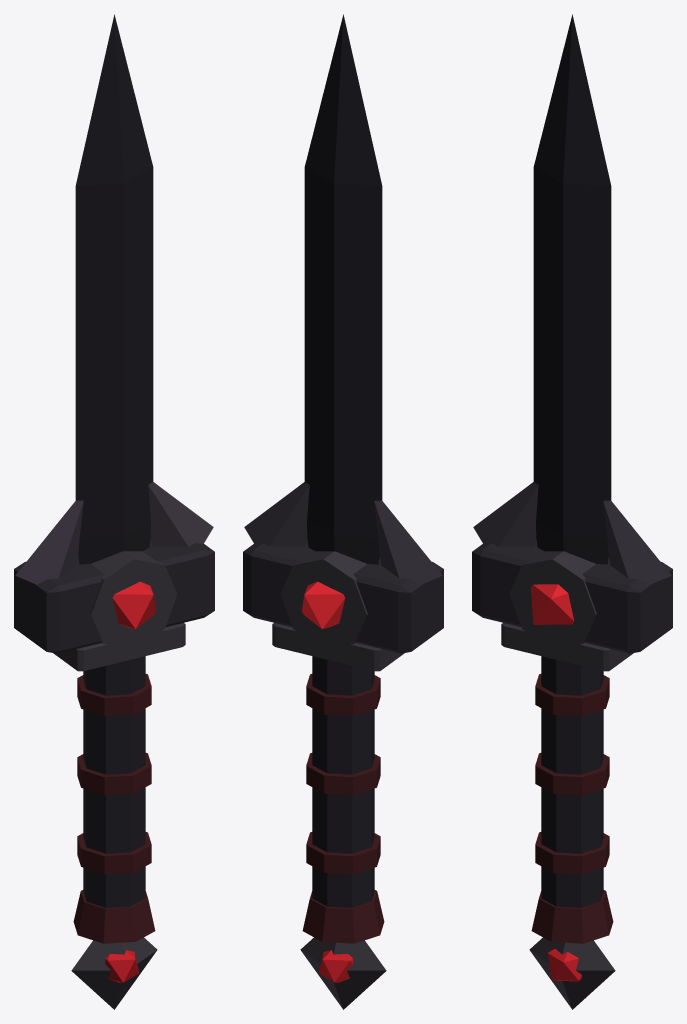
File: Sword_Phase1.fbx
3 renders of one model, left to right at view 1: azimuth 30°, elevation 25°; view 2: azimuth 150°, elevation 25°; view 3: azimuth 330°, elevation 25°, orthographic.
Visible parts, largest first — view 1: Sword_Phase1_Blade, Sword_Phase1_Grip, Sword_Phase1_Trim, Sword_Phase1_Guard, Sword_Phase1_Band, Sword_Phase1_Horn, Sword_Phase1_Eye, Sword_Phase1_Glow; view 2: Sword_Phase1_Blade, Sword_Phase1_Grip, Sword_Phase1_Trim, Sword_Phase1_Guard, Sword_Phase1_Band, Sword_Phase1_Horn, Sword_Phase1_Eye, Sword_Phase1_Glow; view 3: Sword_Phase1_Blade, Sword_Phase1_Grip, Sword_Phase1_Trim, Sword_Phase1_Guard, Sword_Phase1_Band, Sword_Phase1_Horn, Sword_Phase1_Eye, Sword_Phase1_Glow.
Boxes of the visible parts, x1=… form: Sword_Phase1_Blade: x1=75, y1=14, x2=153, y2=564; Sword_Phase1_Grip: x1=83, y1=656, x2=145, y2=907; Sword_Phase1_Trim: x1=53, y1=551, x2=185, y2=1009; Sword_Phase1_Guard: x1=14, y1=538, x2=214, y2=653; Sword_Phase1_Band: x1=73, y1=674, x2=155, y2=943; Sword_Phase1_Horn: x1=15, y1=482, x2=213, y2=584; Sword_Phase1_Eye: x1=112, y1=581, x2=156, y2=629; Sword_Phase1_Glow: x1=105, y1=950, x2=138, y2=982; Sword_Phase1_Blade: x1=304, y1=14, x2=382, y2=564; Sword_Phase1_Grip: x1=312, y1=656, x2=374, y2=907; Sword_Phase1_Trim: x1=272, y1=551, x2=404, y2=1009; Sword_Phase1_Guard: x1=243, y1=538, x2=443, y2=653; Sword_Phase1_Band: x1=302, y1=674, x2=384, y2=943; Sword_Phase1_Horn: x1=244, y1=482, x2=442, y2=584; Sword_Phase1_Eye: x1=301, y1=581, x2=345, y2=629; Sword_Phase1_Glow: x1=319, y1=950, x2=352, y2=982; Sword_Phase1_Blade: x1=533, y1=14, x2=611, y2=564; Sword_Phase1_Grip: x1=541, y1=656, x2=603, y2=907; Sword_Phase1_Trim: x1=501, y1=551, x2=633, y2=1009; Sword_Phase1_Guard: x1=472, y1=538, x2=672, y2=653; Sword_Phase1_Band: x1=531, y1=674, x2=613, y2=943; Sword_Phase1_Horn: x1=473, y1=482, x2=671, y2=584; Sword_Phase1_Eye: x1=530, y1=584, x2=574, y2=624; Sword_Phase1_Glow: x1=547, y1=948, x2=581, y2=981.
Size of the model in its own units: 0.9201 by 4.41 by 0.4849.
